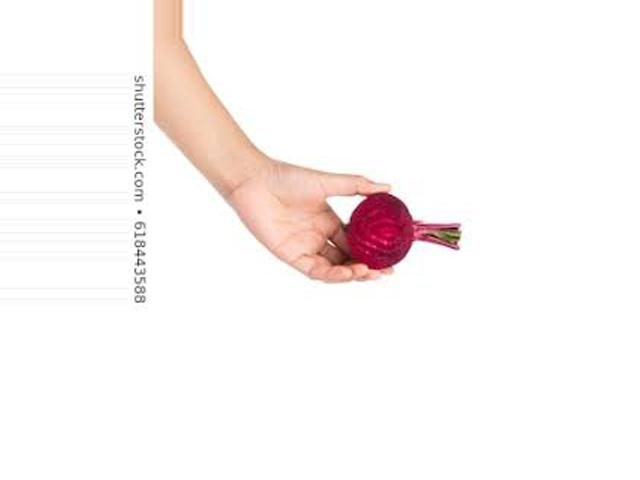beet: (344, 193, 460, 271)
